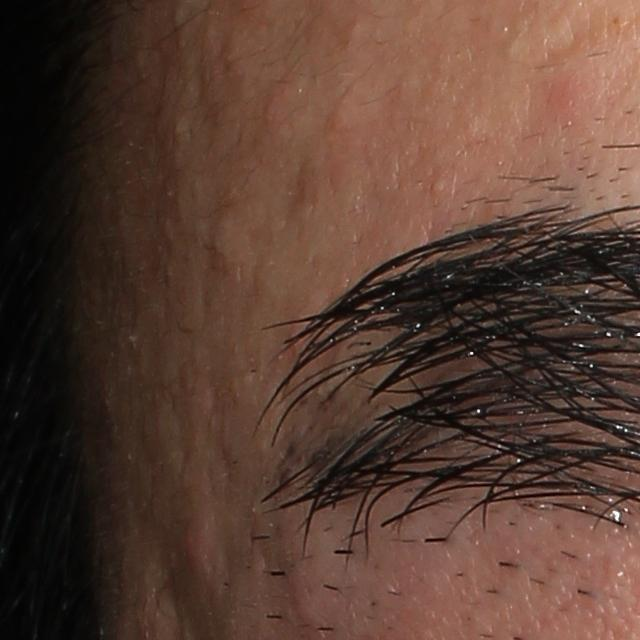comedo: (169, 113, 192, 144), (344, 19, 364, 38), (429, 178, 446, 194)
papule: (544, 74, 586, 126), (177, 526, 212, 576), (263, 87, 295, 131)
